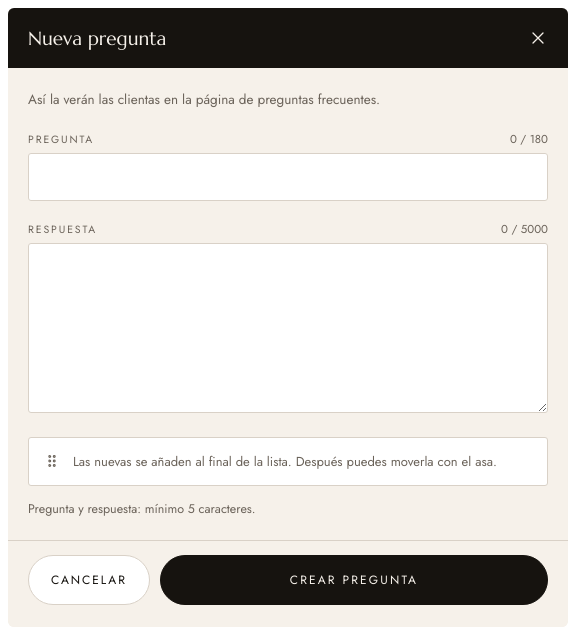
Test: PreguntaDialog · crear › los contadores siguen lo que se escribe
In the field with test id "campo-pregunta": (288, 177) [28,153,548,201], type "¿Hay parqueadero?"
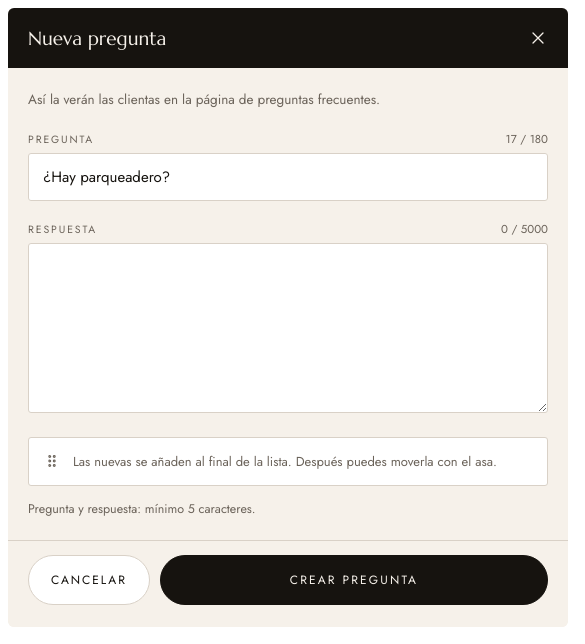
Expected: the text with test id "contador-respuesta" reads "0 / 5000", [501,221,548,237]
Result: the text with test id "contador-pregunta" reads "17 / 180" at [506,131,548,147]
